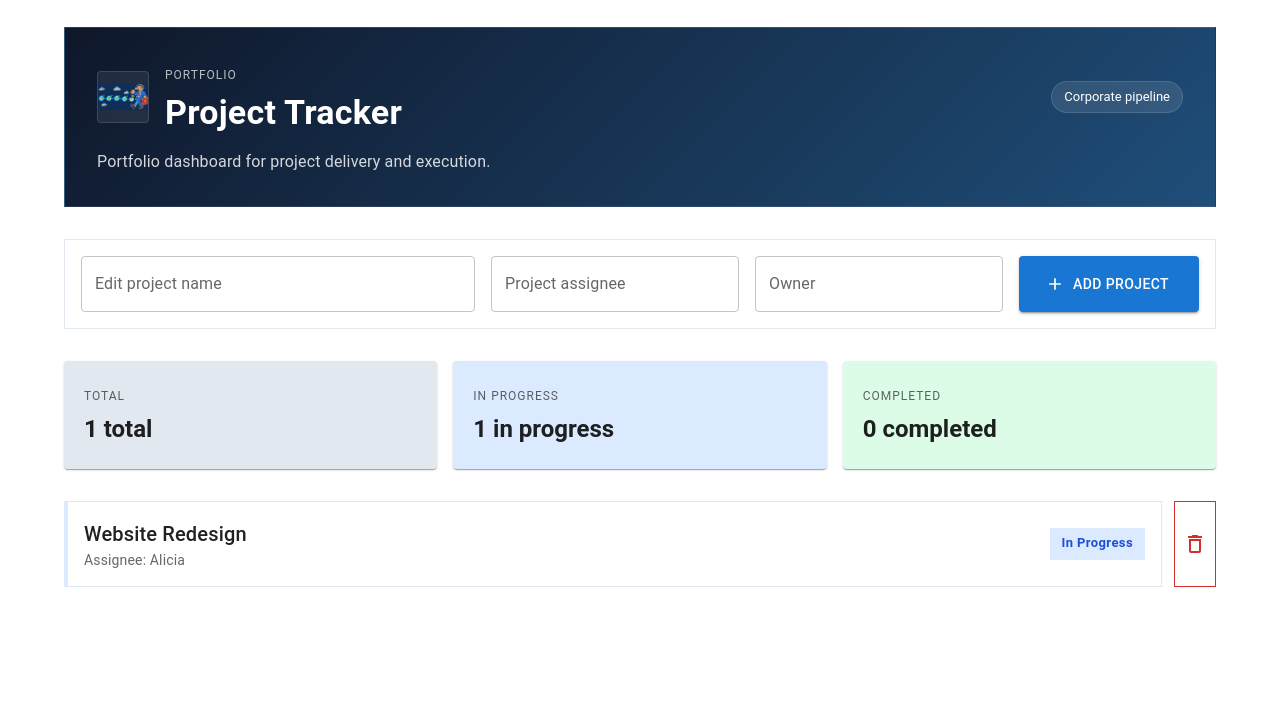
Test: updates task status from the selected project
Click the button with aria-label "select website redesign": coordinates (165, 534) [64,501,1162,587]
(page scrolled)
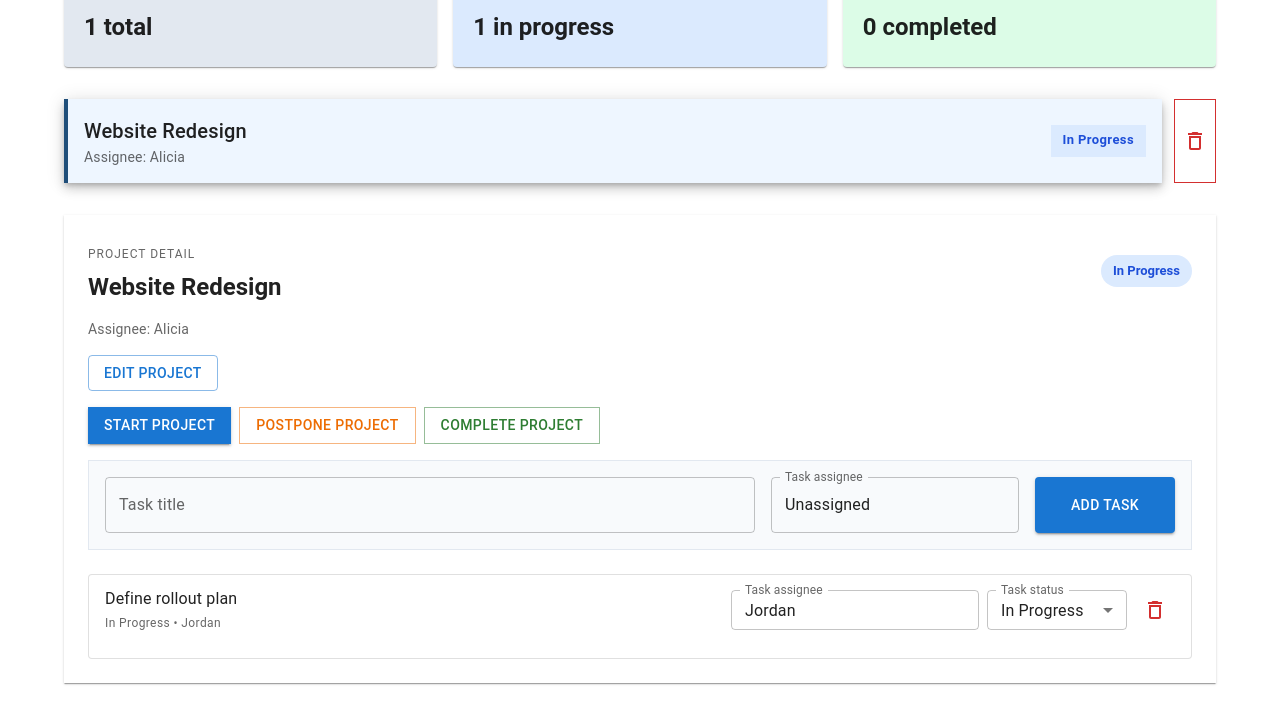
Click the dropdown named "task status": coordinates (1042, 610) [1001,601,1084,620]
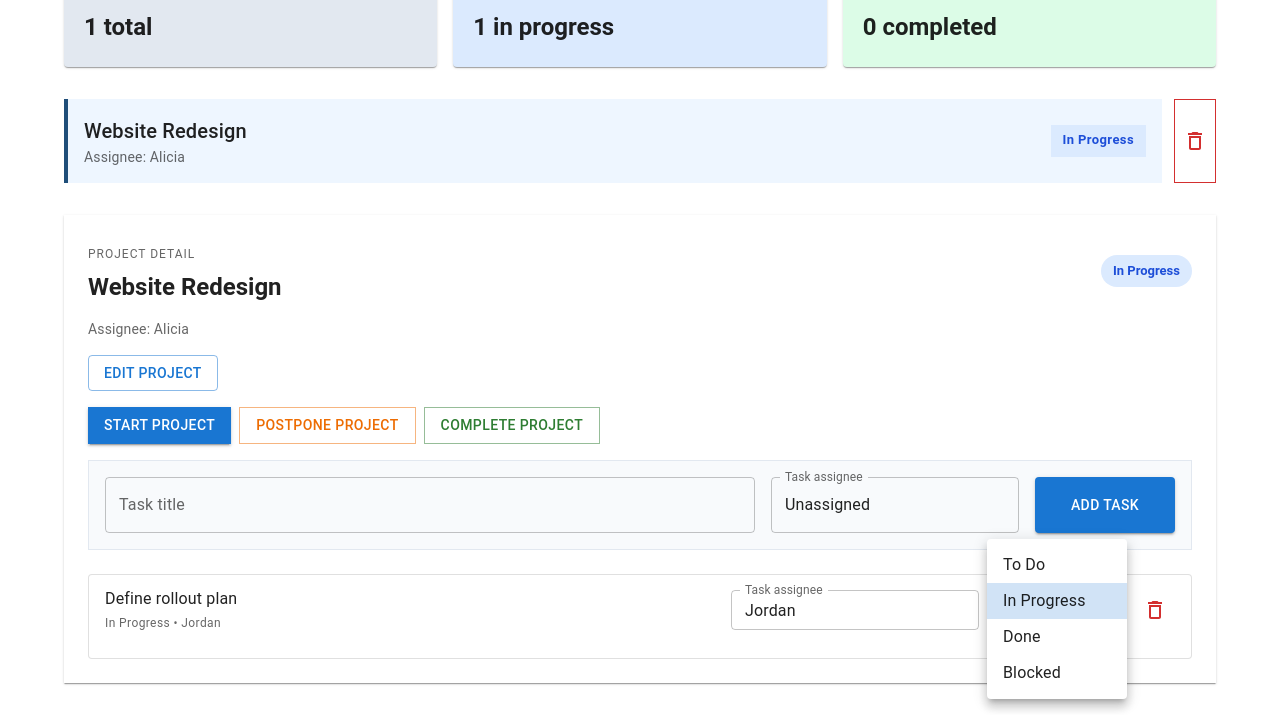
Click the option "Done": coordinates (1022, 636) [1003,627,1040,646]
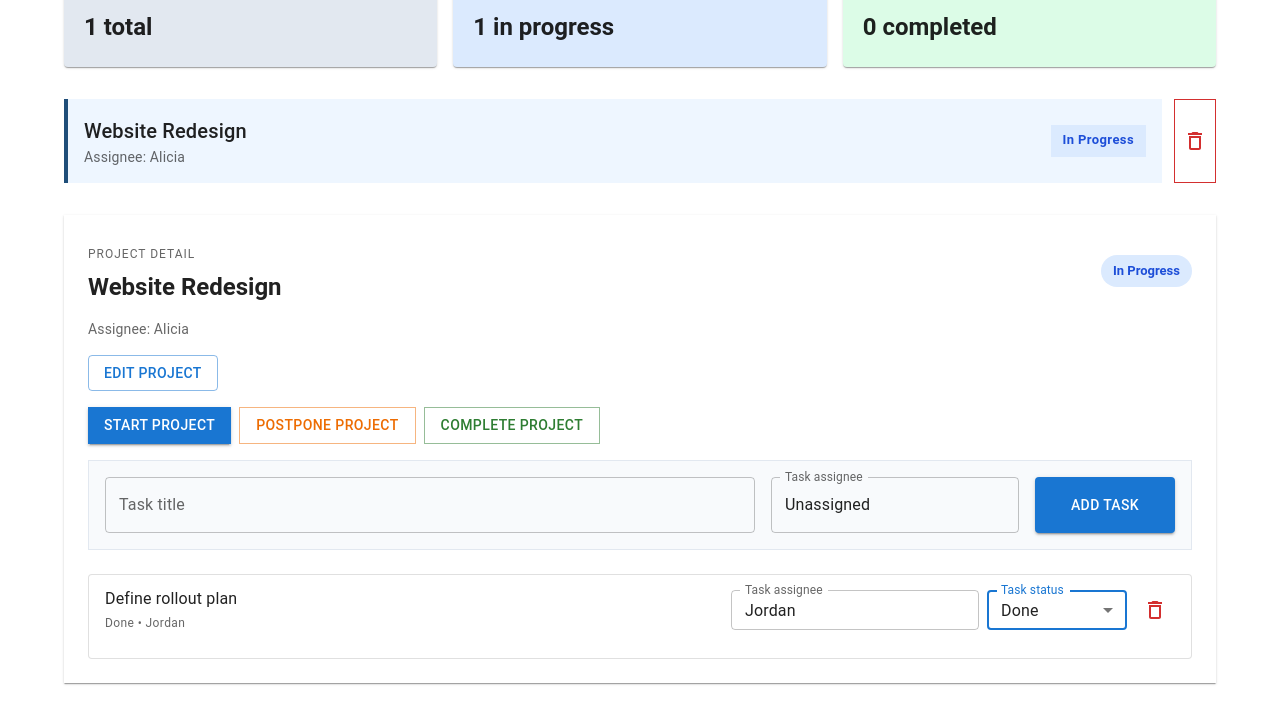
Result: the dropdown named "task status" reads "Done" at [1001,601,1038,620]
